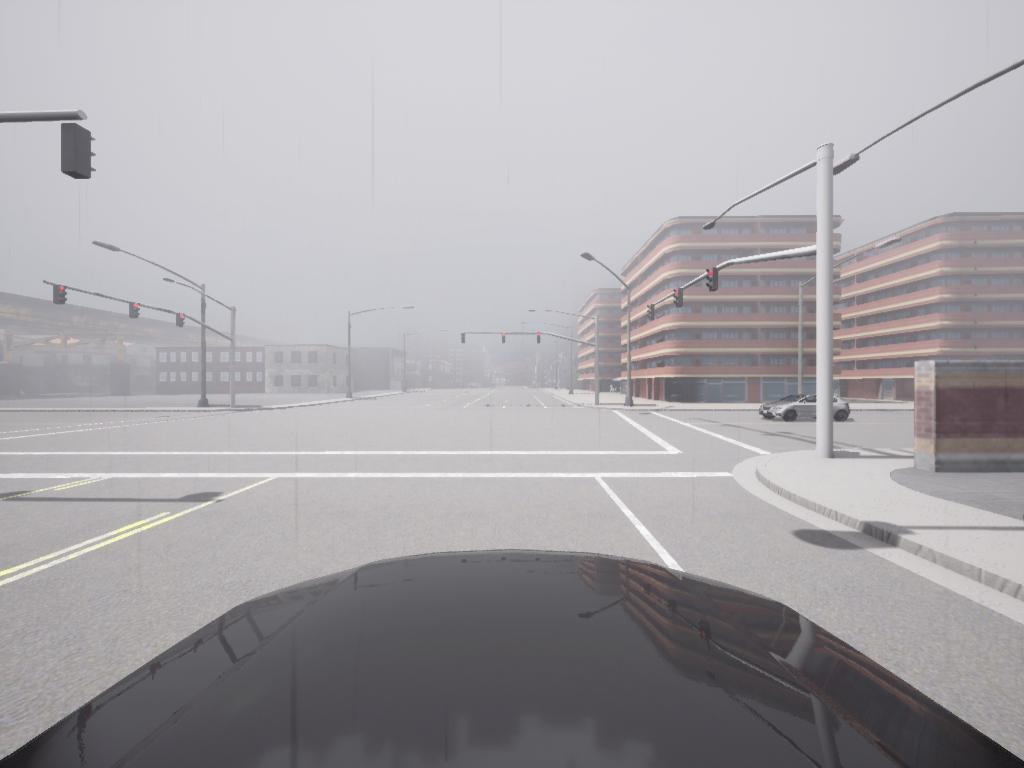traffic_light: (60, 127, 95, 184), (705, 268, 721, 293), (53, 285, 66, 305), (674, 287, 684, 311), (133, 305, 143, 322), (180, 315, 190, 330), (647, 303, 655, 320), (177, 315, 186, 329), (502, 332, 508, 346), (462, 332, 468, 344), (537, 333, 542, 344)
